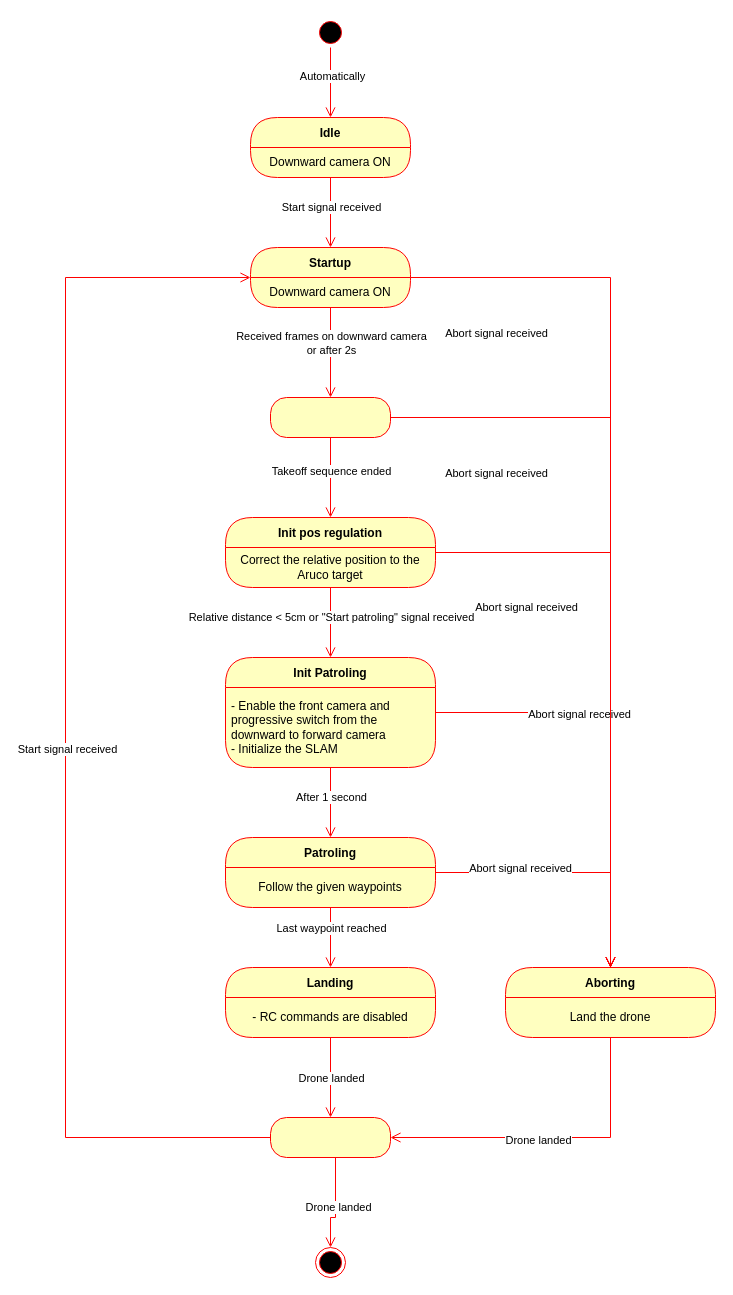
The diagram is 733 pixels wide and 1295 high, and some of its shapes have lost their labels. The centre of each missing label's shape, as x and y in pixels:
"Landed" goes at [330,1137].
"Takeoff" goes at [330,417].
